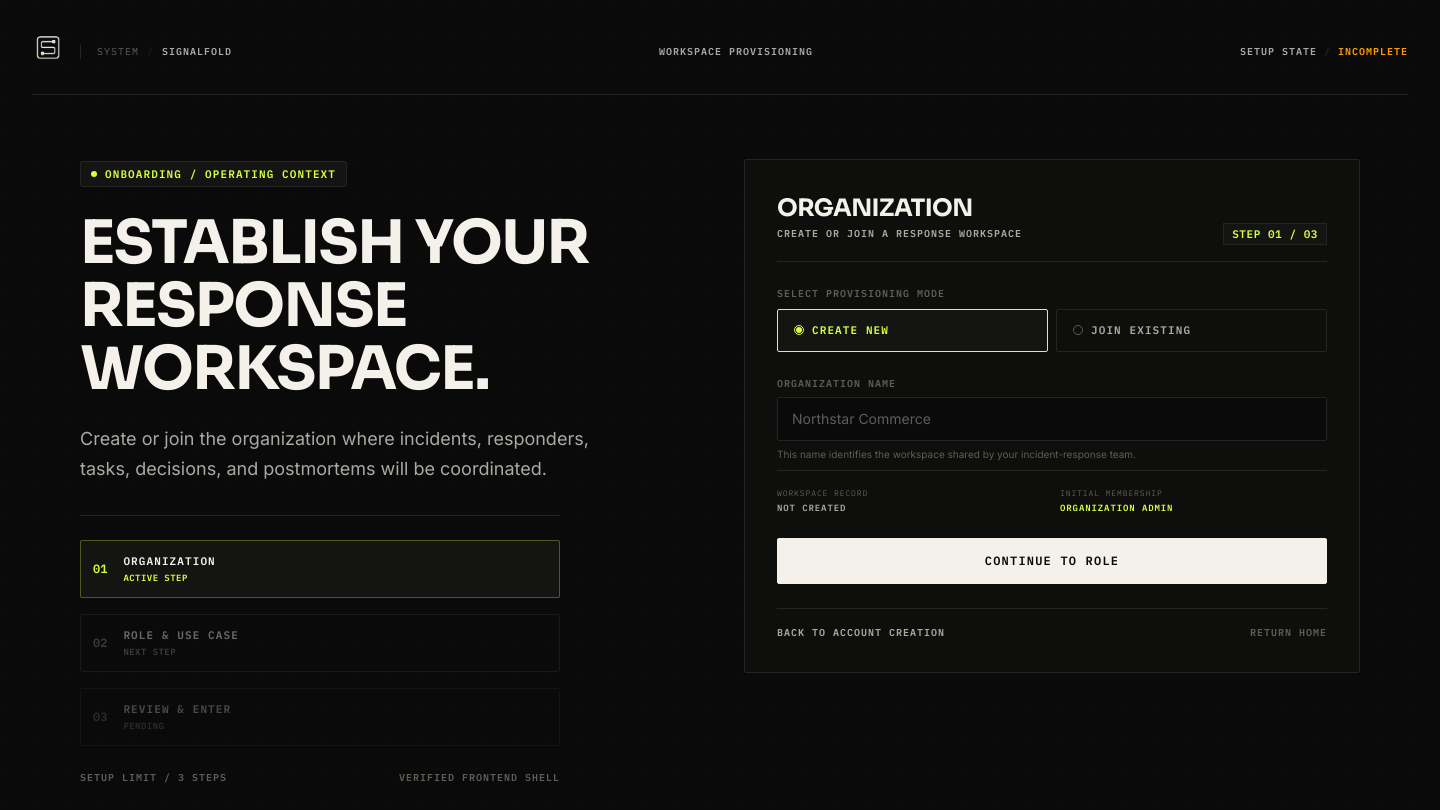
Test: SignalFold OnboardingPage › validates Workspace Invitation in JOIN EXISTING mode
Click the radio button labelled "JOIN EXISTING".
click(1192, 330)  # box [1056,309,1327,352]
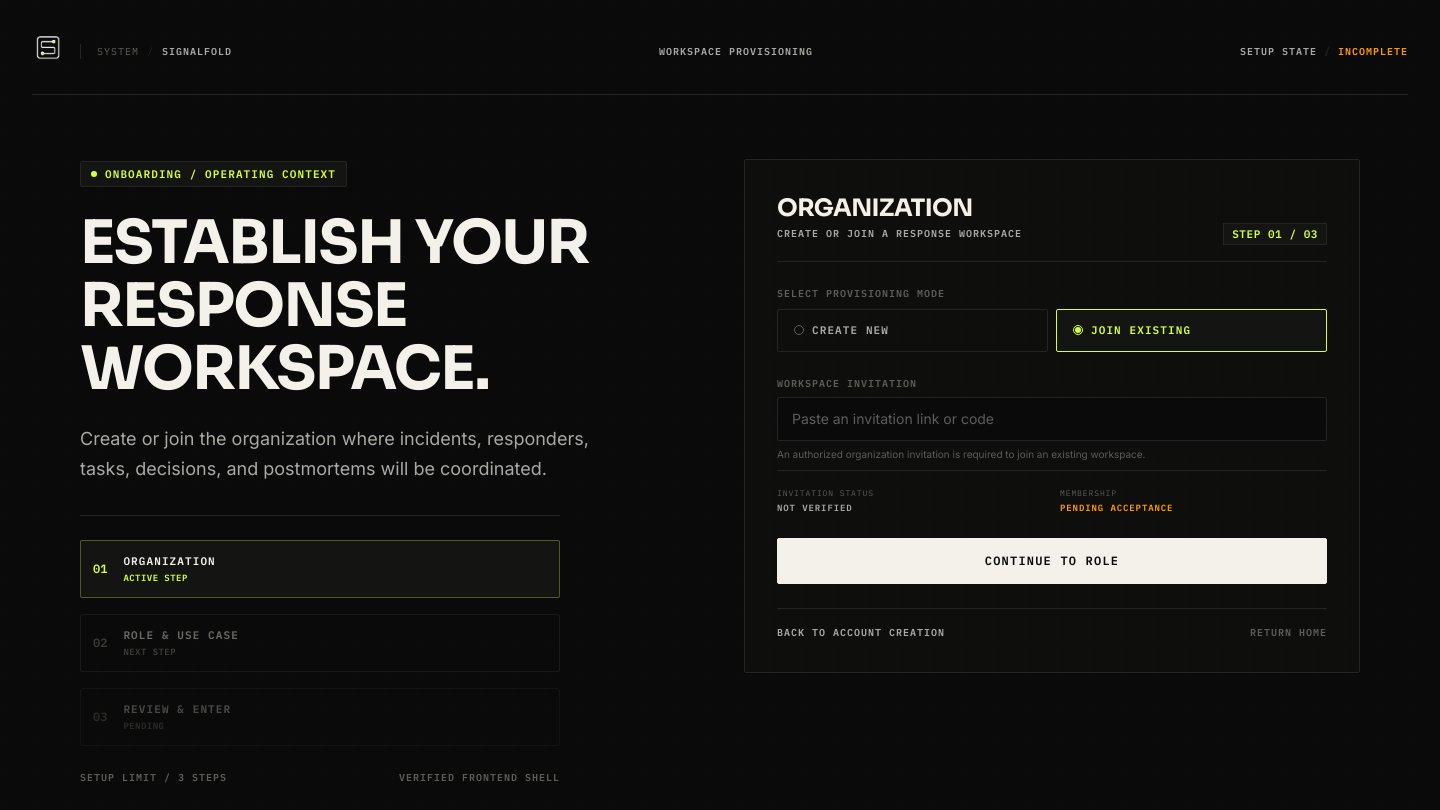
Click the button "CONTINUE TO ROLE".
click(1052, 561)  # box [777,538,1327,584]
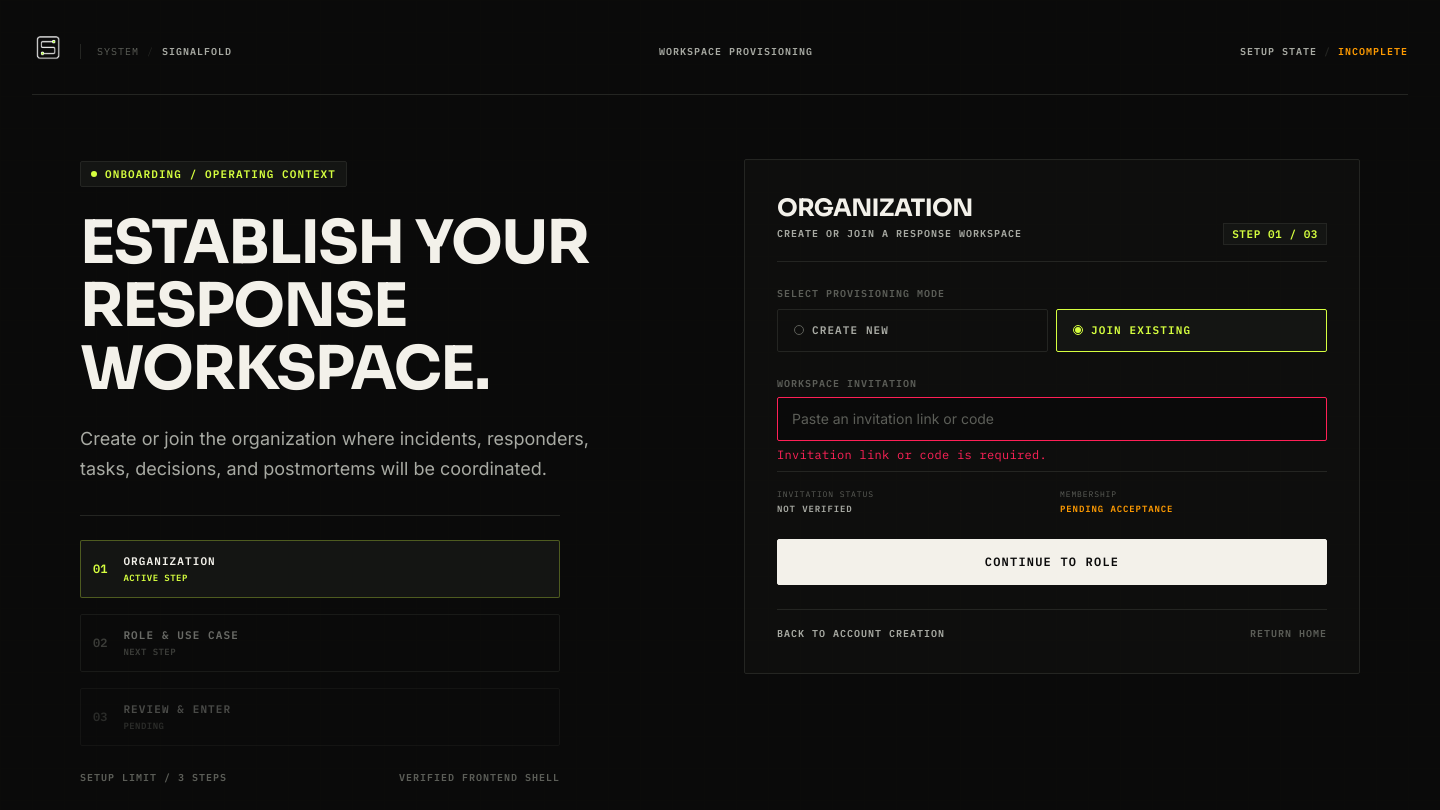
Result: the text "Invitation link or code is required." is shown at [777,446,1047,462]
